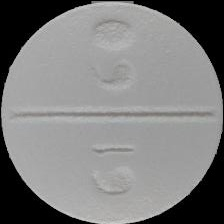61786-462: (0, 0, 224, 224)
